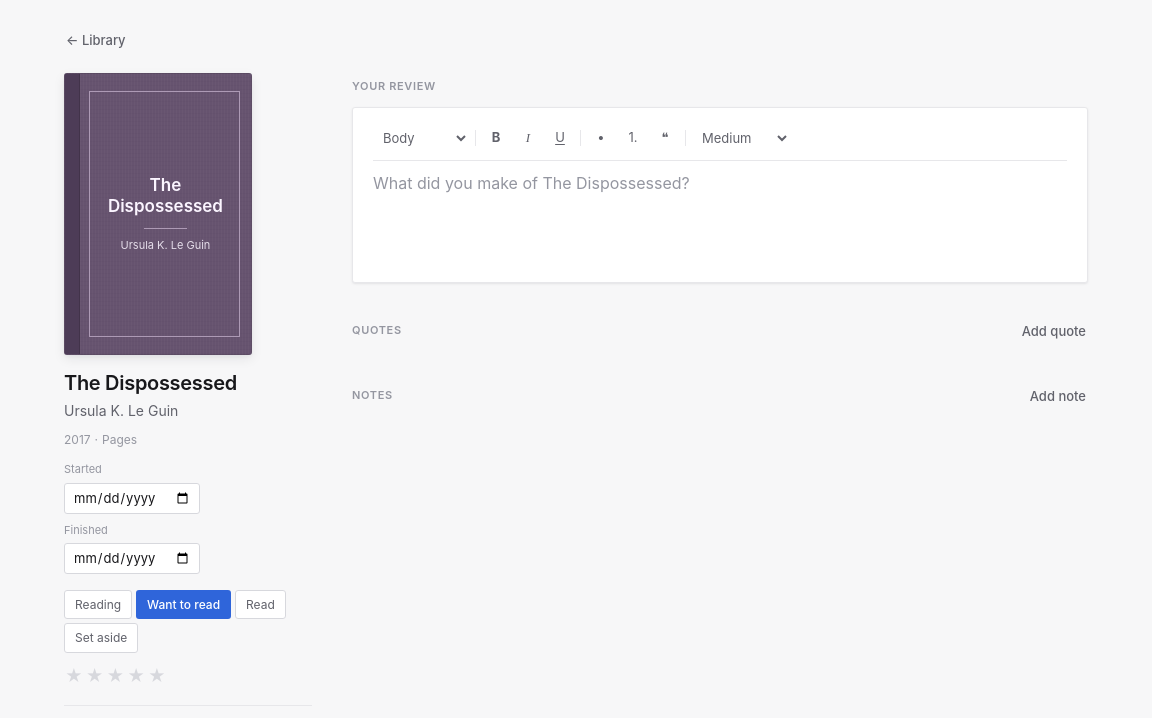
Test: the year and the page count › refuses text that is not a number
The width and height of the screenshot is (1152, 718).
Step 1. Click the button "2017" → (77, 440), box [60,430,95,449]
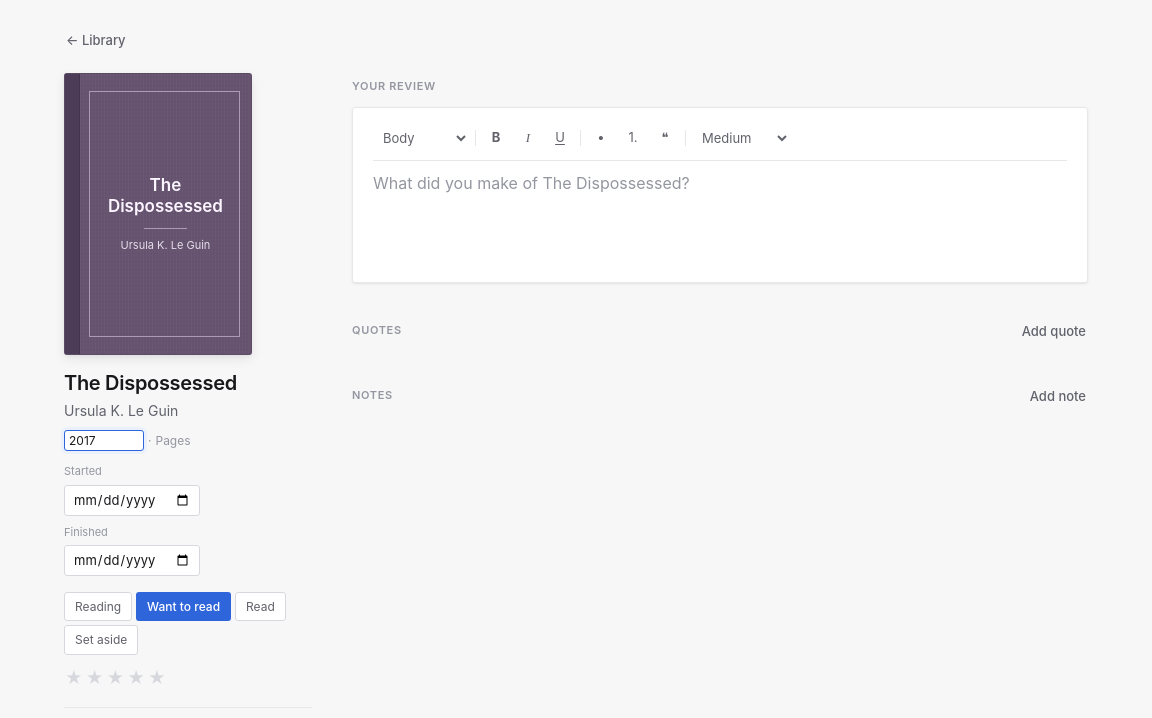
Step 2. Replace the text in the field named "Published year" with "19th century" → (104, 441), box [64,430,144,451]
Then press Enter
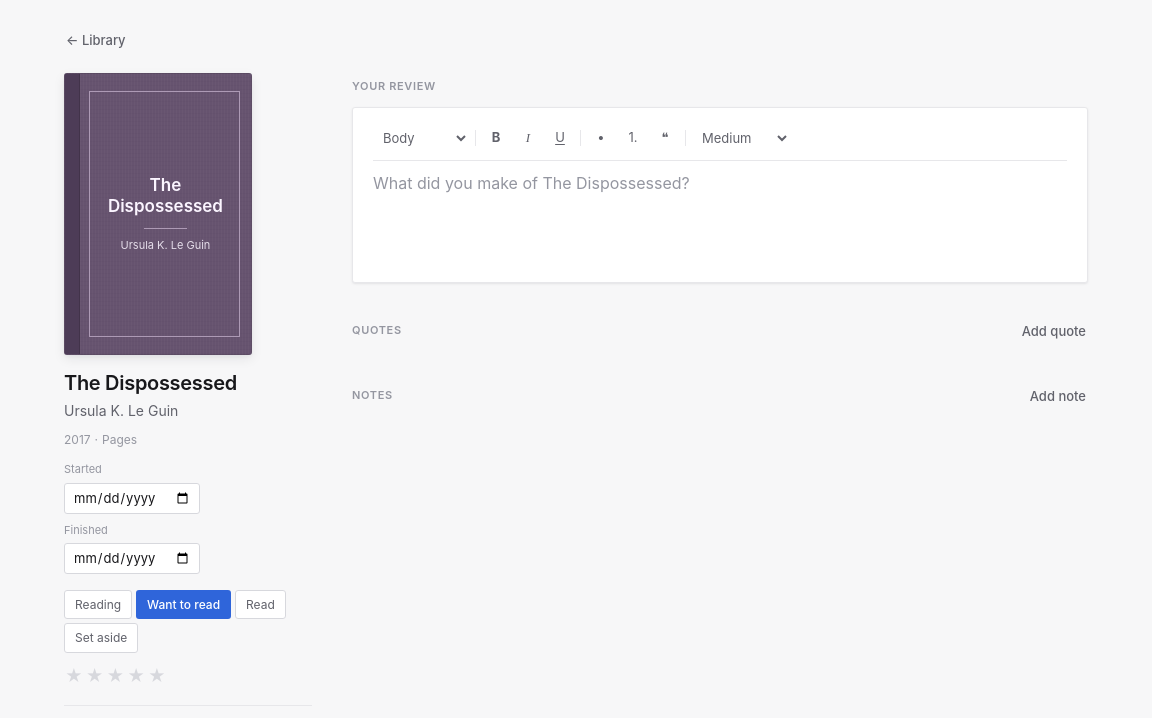
Check: the button "2017" is shown, box [60,430,95,449]
